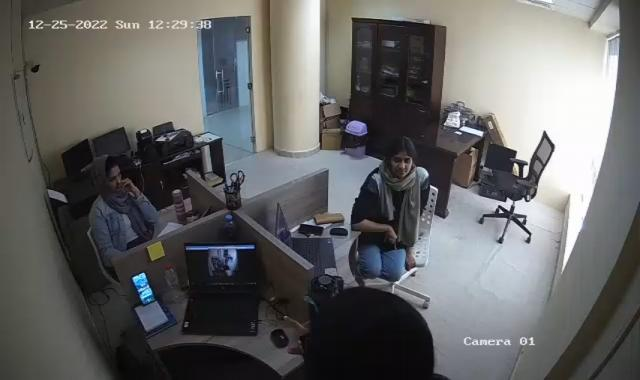no_hairnet: (387, 139, 418, 179), (96, 152, 122, 186)
